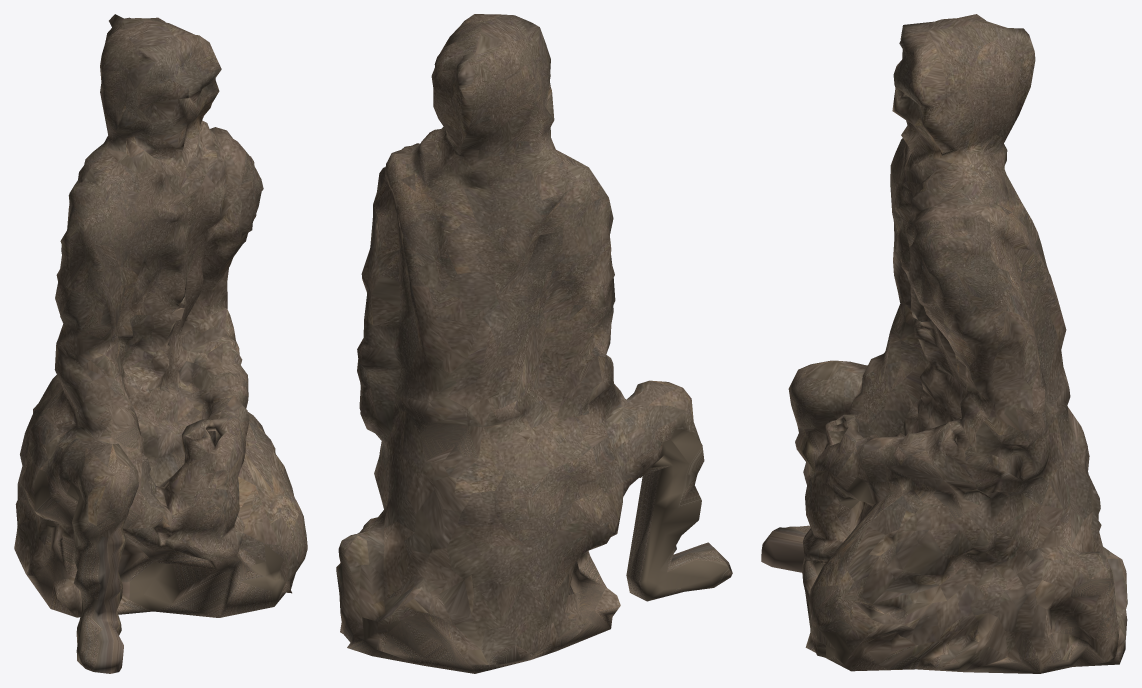
File: 15_man_with_jug.glb
3 views of the same model, side by side, from view 1: azimuth 30°, elevation 25°; view 2: azimuth 150°, elevation 25°; view 3: azimuth 270°, elevation 25° (orthographic). The views are drawn at different scales.
Visible parts, largest first — view 1: Mesh_0; view 2: Mesh_0; view 3: Mesh_0.
Part boxes in pixels (x1=…): Mesh_0: x1=14, y1=14, x2=307, y2=673; Mesh_0: x1=336, y1=14, x2=732, y2=673; Mesh_0: x1=761, y1=14, x2=1127, y2=673.
Size of the model in its own units: 0.9462 by 2 by 1.09.
Materials: 4 (4 with a texture image).
